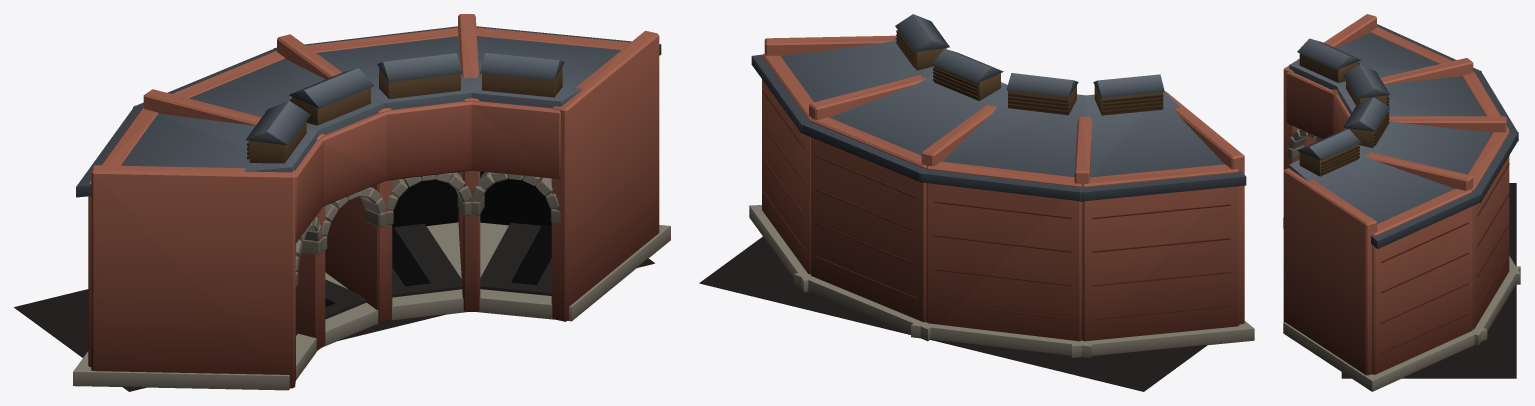
Rendered from roundhouse.glb.
3 renders of one model, left to right at view 1: azimuth 30°, elevation 25°; view 2: azimuth 150°, elevation 25°; view 3: azimuth 270°, elevation 25°, orthographic. The views are drawn at different scales.
Parts seen in each view (by area): view 1: roundhouse; view 2: roundhouse; view 3: roundhouse.
Part boxes in pixels (box(x1,y1,x2,y2)): roundhouse: box(14, 14, 670, 391); roundhouse: box(699, 14, 1254, 391); roundhouse: box(1283, 14, 1520, 391).
Size of the model in its own units: 13.19 by 5.22 by 5.96.
